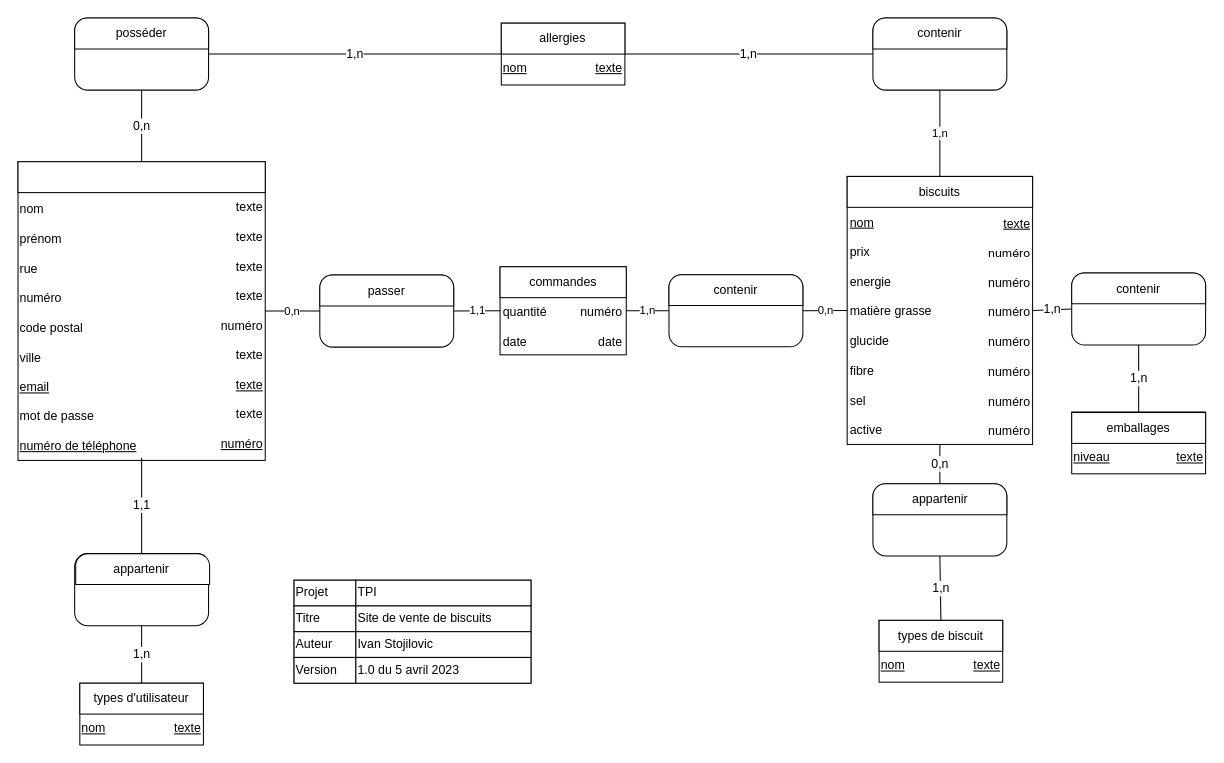
The diagram is 1224 pixels wide and 763 high, and some of its shapes have lost their labels. Here are the shapes that lost their labels. From the top down, the box of each, then its label:
(17, 161, 265, 193): utilisateurs
(1071, 272, 1206, 345): poids texte
